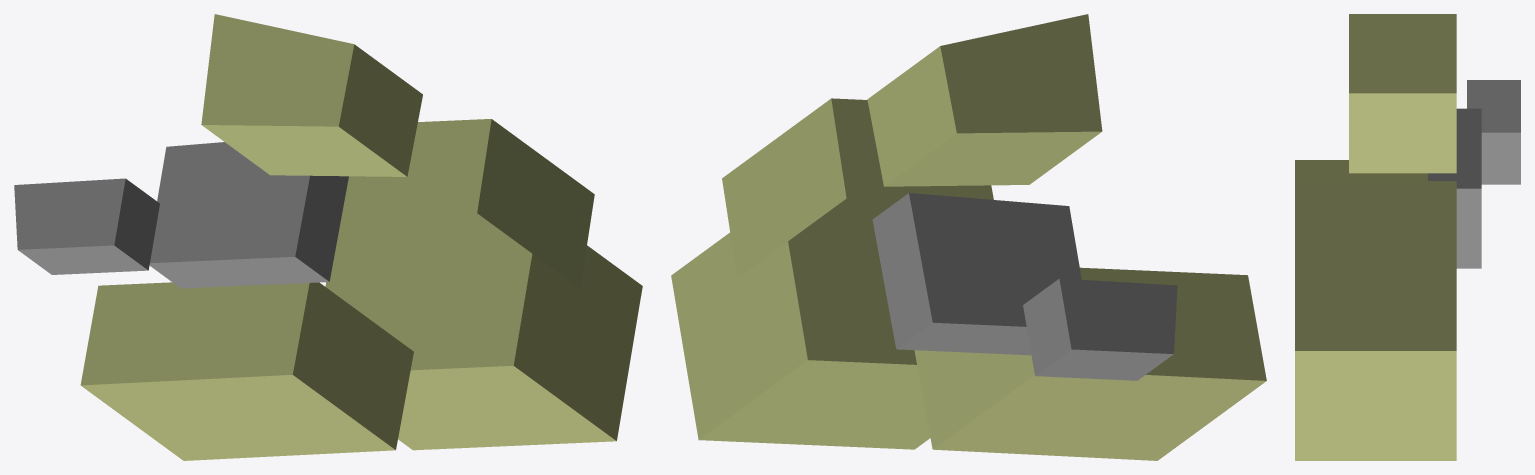
The picture shows the model from 3 angles, left to right: view 1: azimuth 30°, elevation 25°; view 2: azimuth 150°, elevation 25°; view 3: azimuth 270°, elevation 25°; orthographic projection. The views are drawn at different scales.
Visible parts, largest first — view 1: 0_1_2_0_3_3_2_0_1_3; view 2: 0_1_2_0_3_3_2_0_1_3; view 3: 0_1_2_0_3_3_2_0_1_3.
Boxes of the visible parts, box(x1,y1,x2,y2) form: 0_1_2_0_3_3_2_0_1_3: box(14, 14, 642, 460); 0_1_2_0_3_3_2_0_1_3: box(671, 14, 1266, 460); 0_1_2_0_3_3_2_0_1_3: box(1295, 14, 1520, 460).
Bounding box in the file's own units: 24.4 × 20.44 × 12.57.
